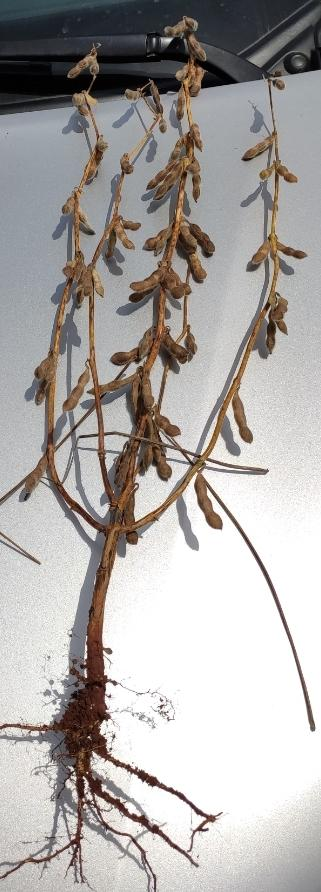soja: (192, 474, 231, 534), (57, 367, 93, 415), (235, 133, 281, 167), (190, 219, 222, 265), (135, 156, 177, 191), (17, 453, 52, 494), (233, 387, 255, 451), (151, 165, 184, 205), (150, 445, 182, 485), (260, 311, 285, 361), (125, 264, 164, 296), (271, 234, 315, 262), (123, 493, 146, 546), (119, 282, 161, 311), (169, 259, 198, 295), (160, 332, 188, 367), (103, 372, 142, 396), (184, 250, 215, 280), (155, 409, 185, 440), (84, 145, 103, 192), (134, 325, 159, 360), (113, 223, 141, 254), (249, 236, 275, 269), (275, 158, 304, 187), (74, 208, 101, 239), (189, 66, 212, 102), (145, 226, 169, 260), (63, 55, 90, 84), (163, 274, 183, 313), (149, 83, 172, 116), (88, 264, 109, 300), (270, 307, 292, 340), (185, 38, 215, 62), (104, 228, 123, 265), (141, 372, 159, 411), (172, 128, 192, 163), (268, 298, 297, 322), (158, 225, 175, 265), (31, 354, 54, 382), (111, 349, 143, 369), (266, 75, 300, 93), (115, 213, 147, 232), (180, 327, 204, 352), (256, 163, 282, 186), (92, 130, 114, 157), (192, 119, 209, 153), (36, 377, 52, 413), (182, 224, 199, 257), (172, 93, 190, 124), (168, 65, 197, 84), (191, 160, 202, 207), (81, 256, 90, 313), (83, 88, 106, 109), (63, 191, 78, 219), (120, 87, 144, 104), (153, 113, 169, 137), (184, 15, 204, 34), (161, 20, 184, 36), (88, 53, 103, 77), (74, 94, 88, 117)
